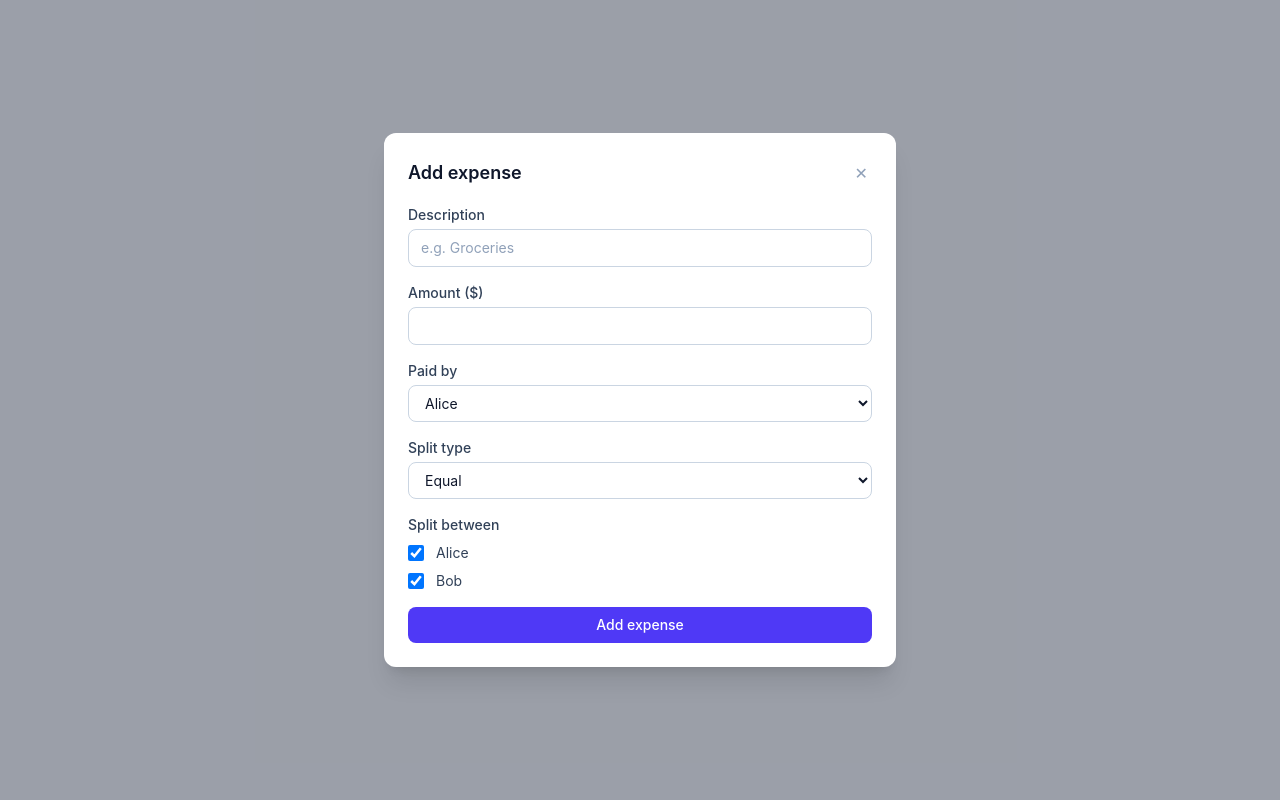
Scenario: AddExpenseModal › shows per-person amount inputs and a sum hint when split type is Exact amounts
The width and height of the screenshot is (1280, 800).
Select "Exact amounts" in the dropdown labelled "Split type" at x=640, y=480, box [408,462,872,499]
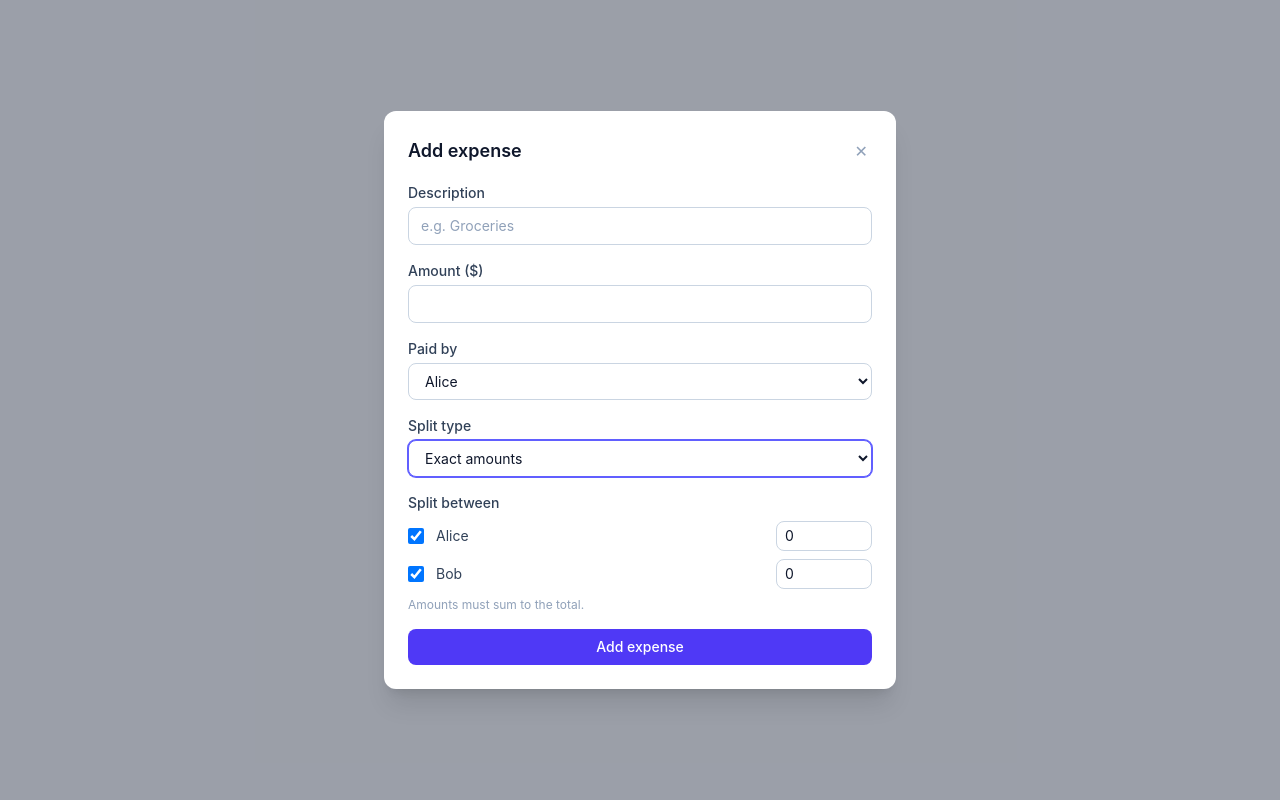
Check: the number of number fields with placeholder "$" is 2, box [776,521,872,551]; [776,559,872,589]
Check: the text "Amounts must sum to the total." is shown, box [408,597,584,612]
